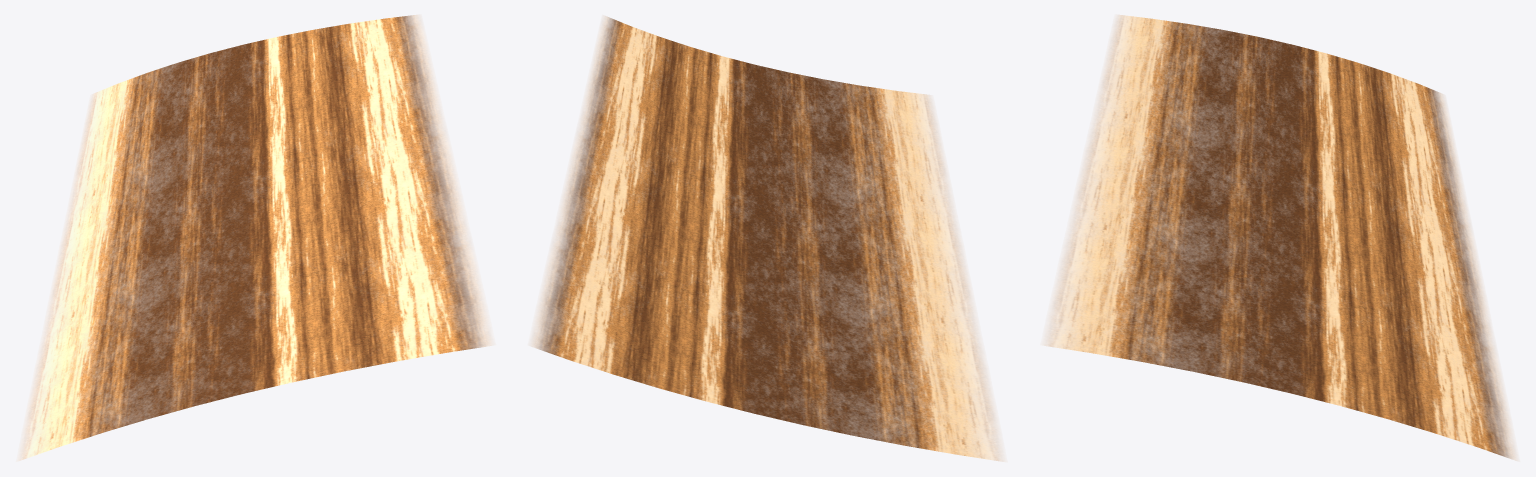
Rendered from mwm_fall_back.glb.
3 renders of one model, left to right at view 1: azimuth 30°, elevation 25°; view 2: azimuth 150°, elevation 25°; view 3: azimuth 330°, elevation 25°, orthographic.
Size of the model in its own units: 1.45 by 1 by 0.07.
Materials: 1 (1 with a texture image).
